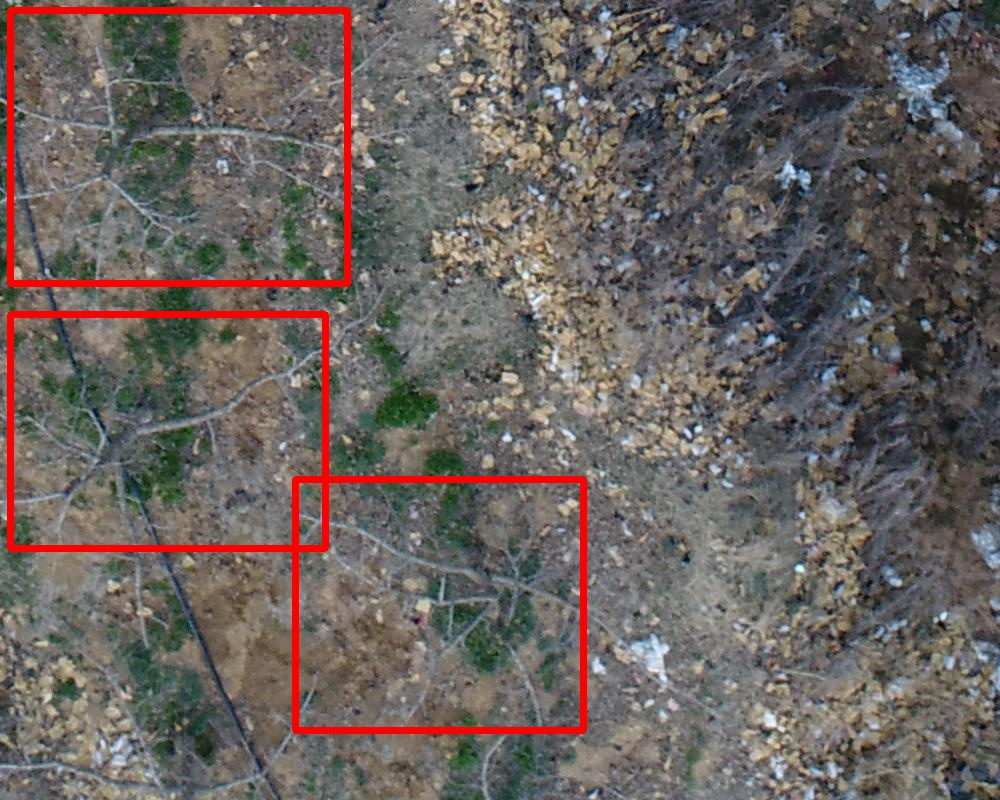apple: (10, 10, 347, 283), (10, 314, 325, 548), (295, 479, 583, 730)
